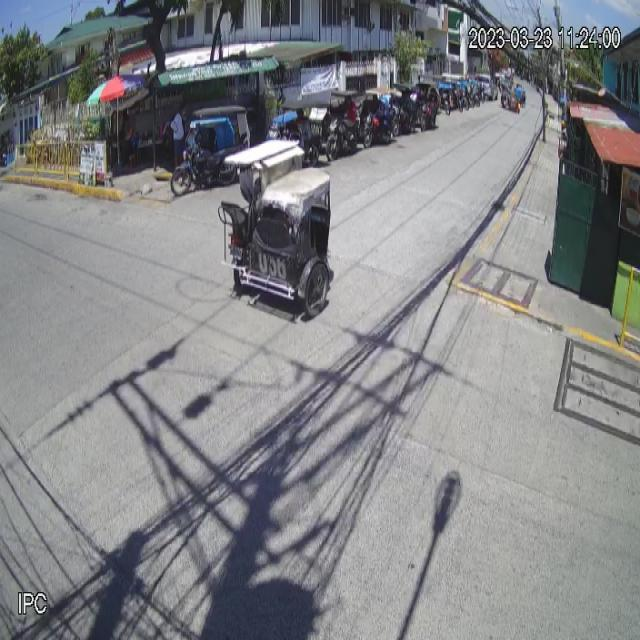Tricycle: (218, 139, 334, 317)
